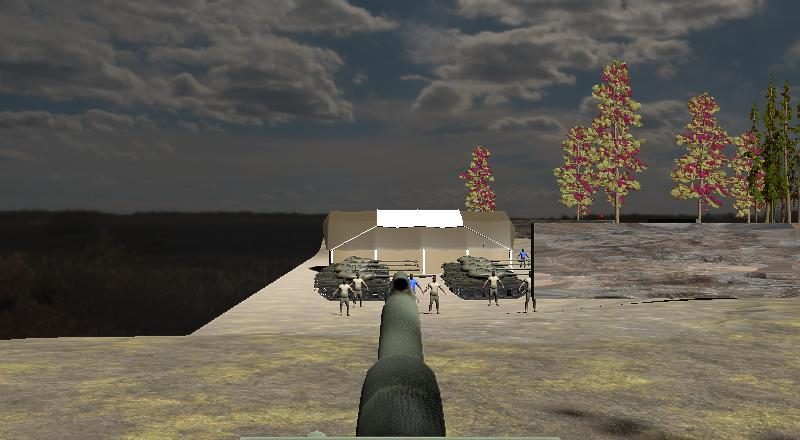Human: (334, 277, 355, 318), (405, 270, 422, 308), (517, 247, 529, 269)
Tank: (309, 255, 425, 306), (440, 253, 546, 302)
